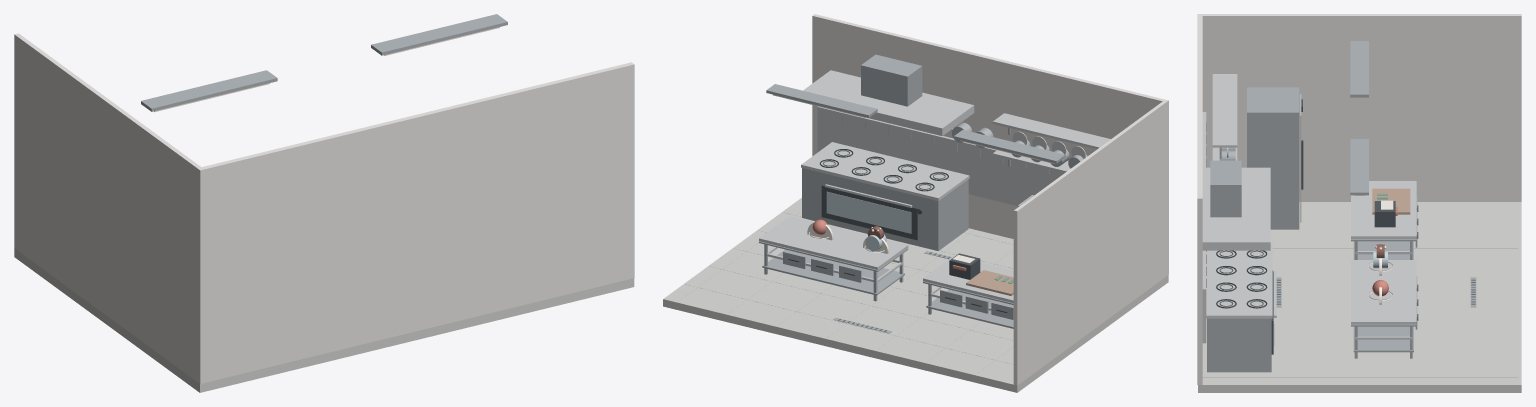
File: slpraxo_cuisine_v5.glb
3 views of the same model, side by side, from view 1: azimuth 30°, elevation 25°; view 2: azimuth 150°, elevation 25°; view 3: azimuth 270°, elevation 25° (orthographic). The views are drawn at different scales.
Visible parts, largest first — view 1: back_wall_2, side_wall_3, foundation_1, lighting_32, lighting_34; view 2: side_wall_3, foundation_1, back_wall_2, backsplash_17, range_body_58, range_top_59, hood_84, worktop_47, hood_duct_85, under_shelf_53, oven_glass_82, shelf_103 (+8 smaller); view 3: side_wall_3, foundation_1, fridge_118, hood_84, range_top_59, worktop_47, range_body_58, worktop_36, back_wall_2, shelf_103, hood_duct_85, under_shelf_53 (+7 smaller).
Boxes of the visible parts, left/top/right/bottom form: back_wall_2: left=197, top=62, right=634, bottom=383; side_wall_3: left=14, top=33, right=201, bottom=381; foundation_1: left=14, top=248, right=634, bottom=392; lighting_32: left=141, top=70, right=277, bottom=111; lighting_34: left=371, top=14, right=507, bottom=55; side_wall_3: left=1013, top=99, right=1168, bottom=385; foundation_1: left=663, top=198, right=1168, bottom=392; back_wall_2: left=812, top=14, right=1168, bottom=274; backsplash_17: left=817, top=106, right=1063, bottom=205; range_body_58: left=802, top=168, right=968, bottom=251; range_top_59: left=801, top=142, right=969, bottom=201; hood_84: left=803, top=70, right=974, bottom=136; worktop_47: left=759, top=216, right=908, bottom=269; hood_duct_85: left=861, top=54, right=922, bottom=106; under_shelf_53: left=762, top=249, right=904, bottom=295; oven_glass_82: left=826, top=191, right=911, bottom=233; shelf_103: left=992, top=113, right=1110, bottom=149; side_wall_3: left=1201, top=14, right=1521, bottom=201; foundation_1: left=1198, top=202, right=1521, bottom=392; fridge_118: left=1247, top=87, right=1299, bottom=229; hood_84: left=1202, top=167, right=1270, bottom=250; range_top_59: left=1206, top=244, right=1272, bottom=318; worktop_47: left=1351, top=260, right=1416, bottom=324; range_body_58: left=1207, top=318, right=1271, bottom=372; worktop_36: left=1351, top=181, right=1416, bottom=239; back_wall_2: left=1197, top=14, right=1202, bottom=384; shelf_103: left=1212, top=74, right=1237, bottom=147; hood_duct_85: left=1210, top=160, right=1241, bottom=217; under_shelf_53: left=1353, top=326, right=1413, bottom=352.
Size of the model in its own units: 10 by 4.9 by 7.41.
